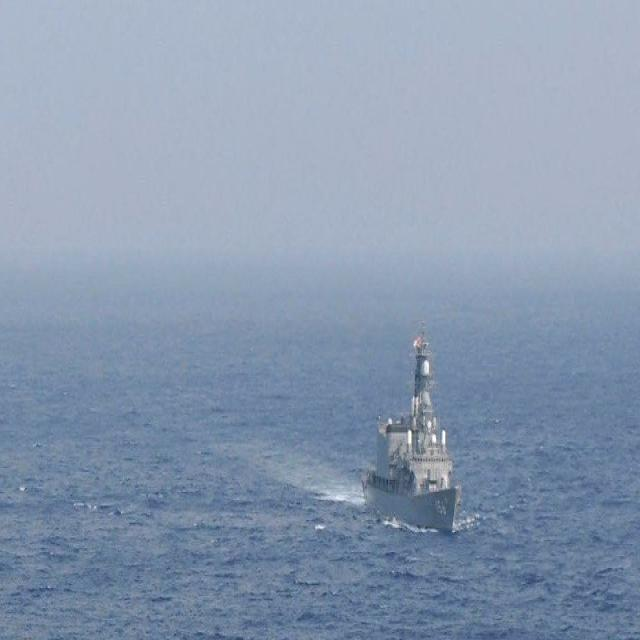navalvessels: (356, 318, 462, 548)
